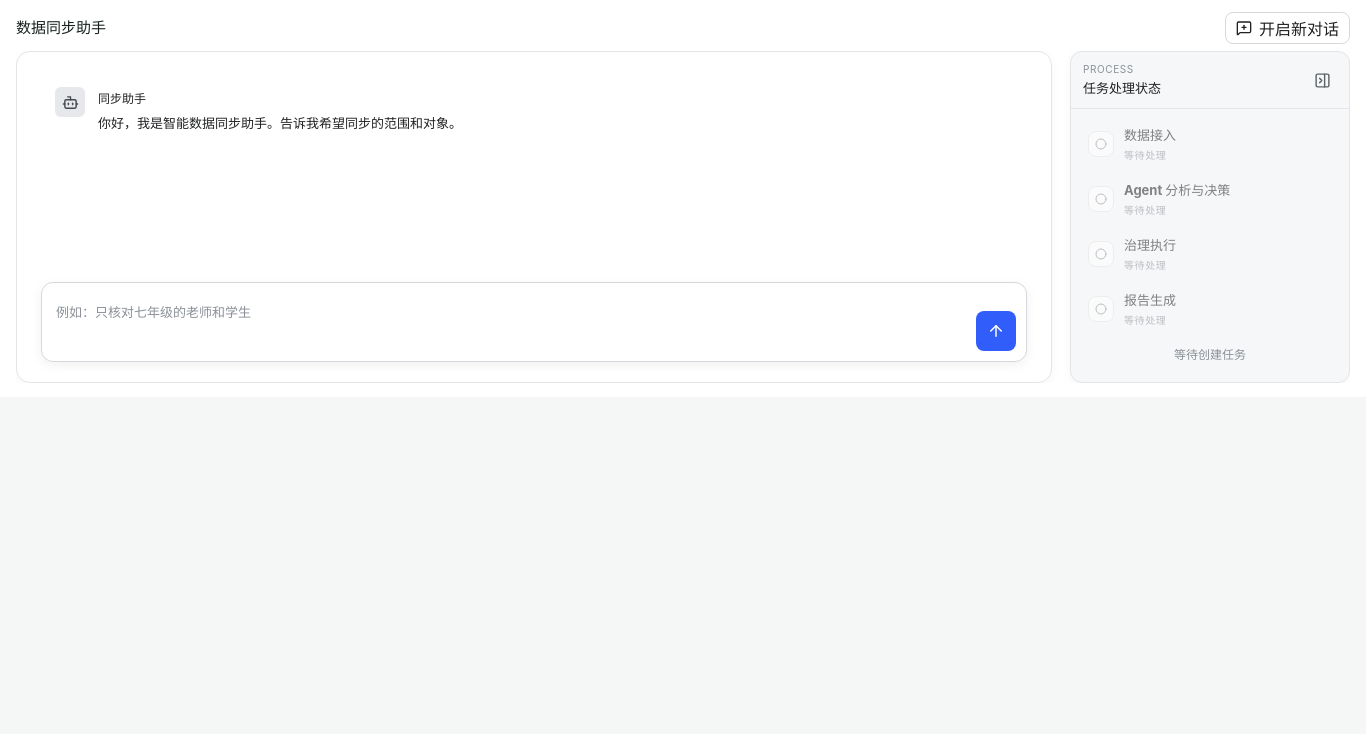
it: backend Agent conversation › shows a fresh DingTalk connection card for a later synchronization request
The width and height of the screenshot is (1366, 734).
Type "再次同步钉钉学生数据" into the text box named "对账目标" at (512, 322), box x1=56 y1=293 x2=968 y2=351
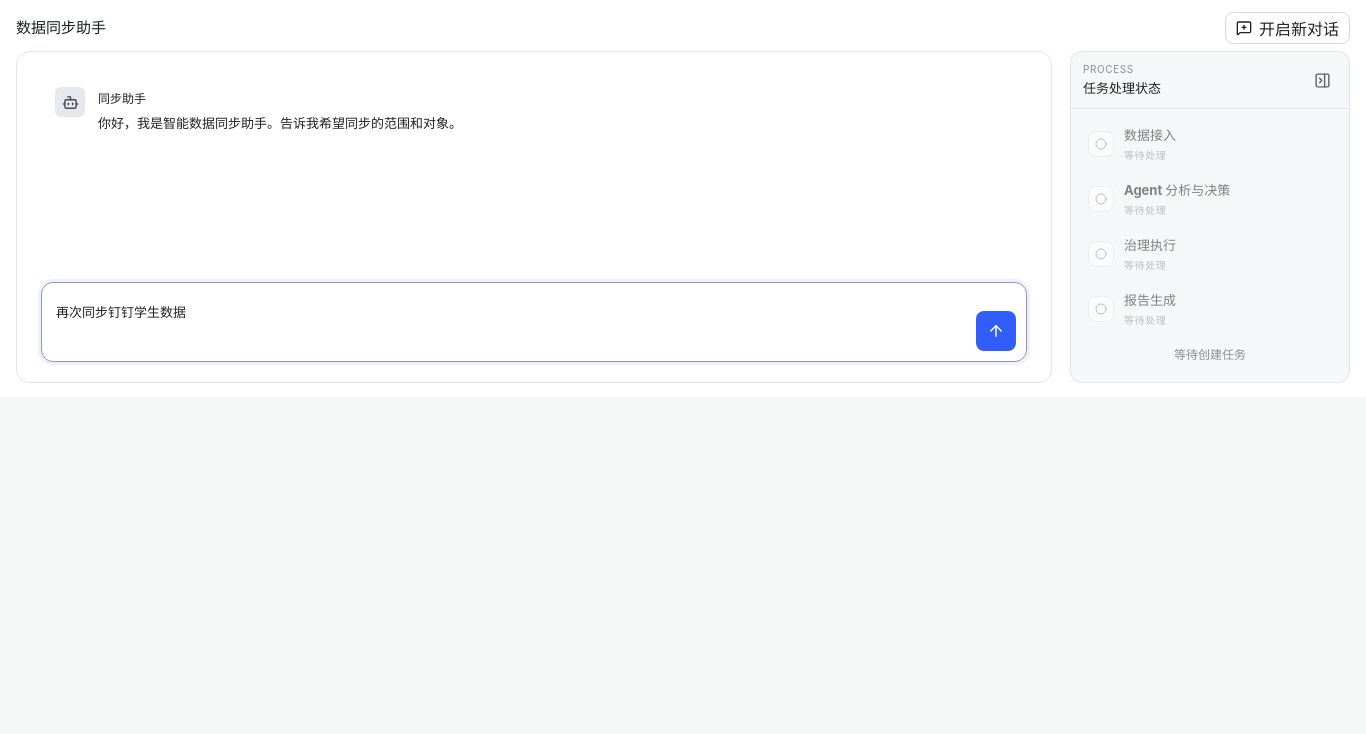
Click the button named "发送" at (996, 331), box x1=976 y1=311 x2=1016 y2=351
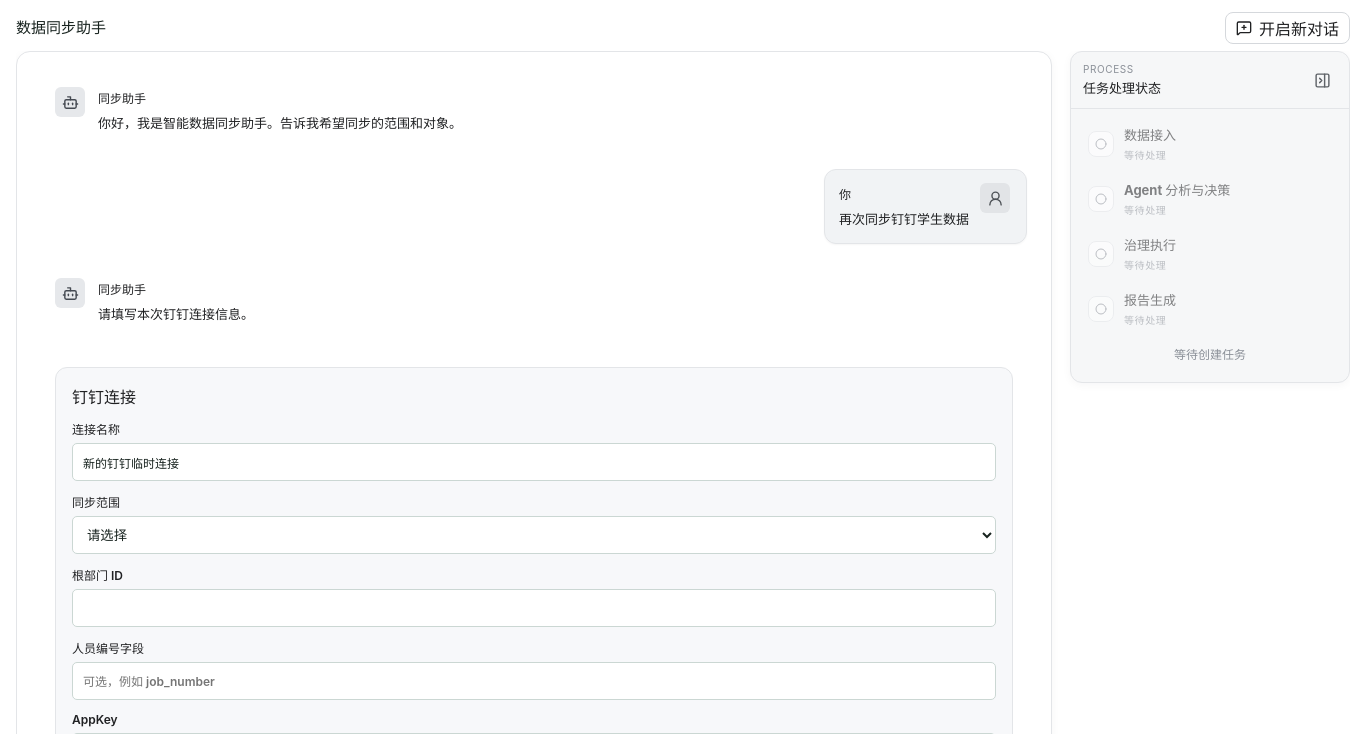
Now the field labelled "连接名称" holds "新的钉钉临时连接", box x1=72 y1=443 x2=996 y2=481
